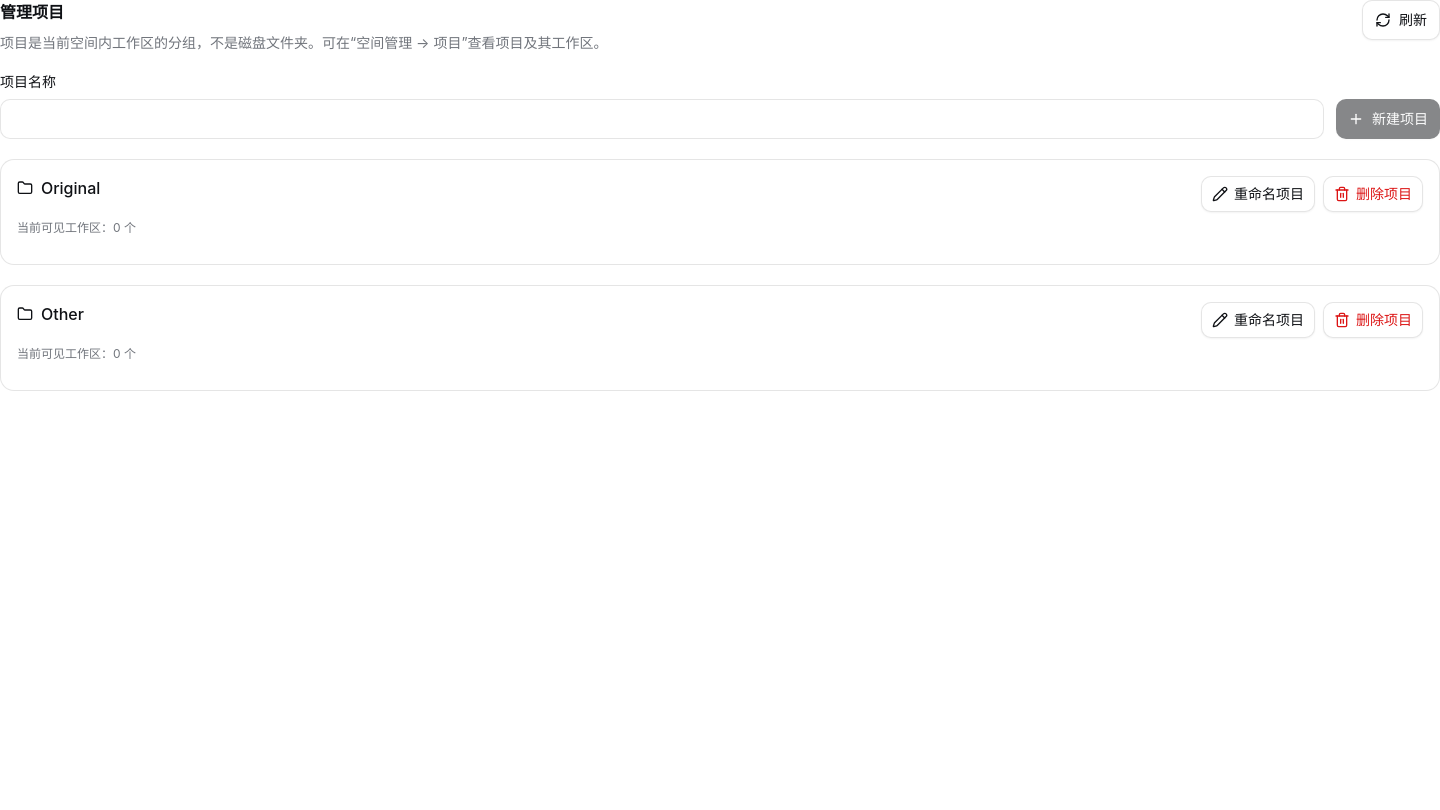
Test case: Platform project settings › keeps the confirmation and project on conflict: the last project in a space cannot be deleted
What coordinates should you click on to do the following:
click the button "删除项目" in the row of "Original"
I would click on:
 (1373, 194)
Its box is [1323, 176, 1423, 212].
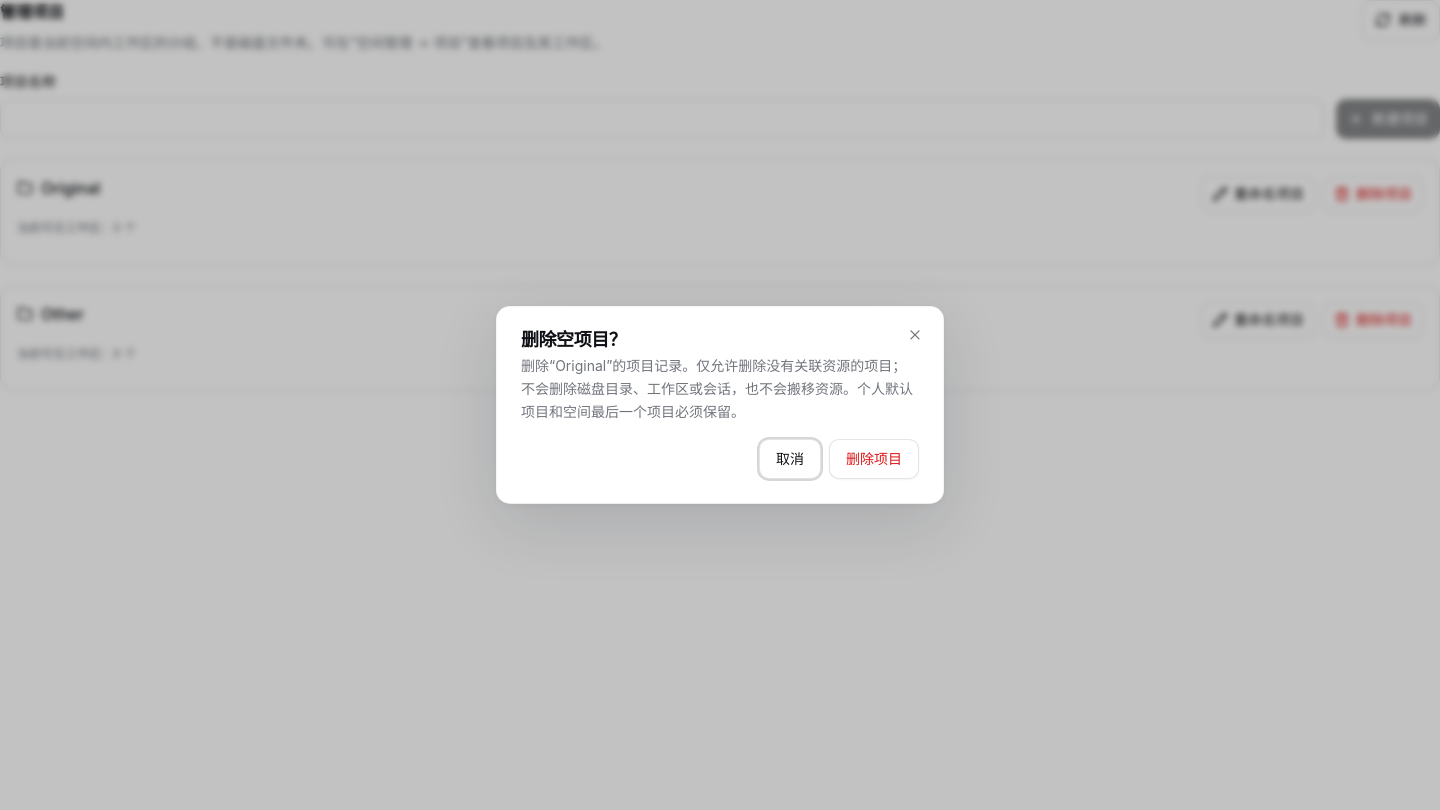
What coordinates should you click on to do the following:
click the button "删除项目"
I would click on:
 (874, 459)
Its box is [829, 439, 919, 479].
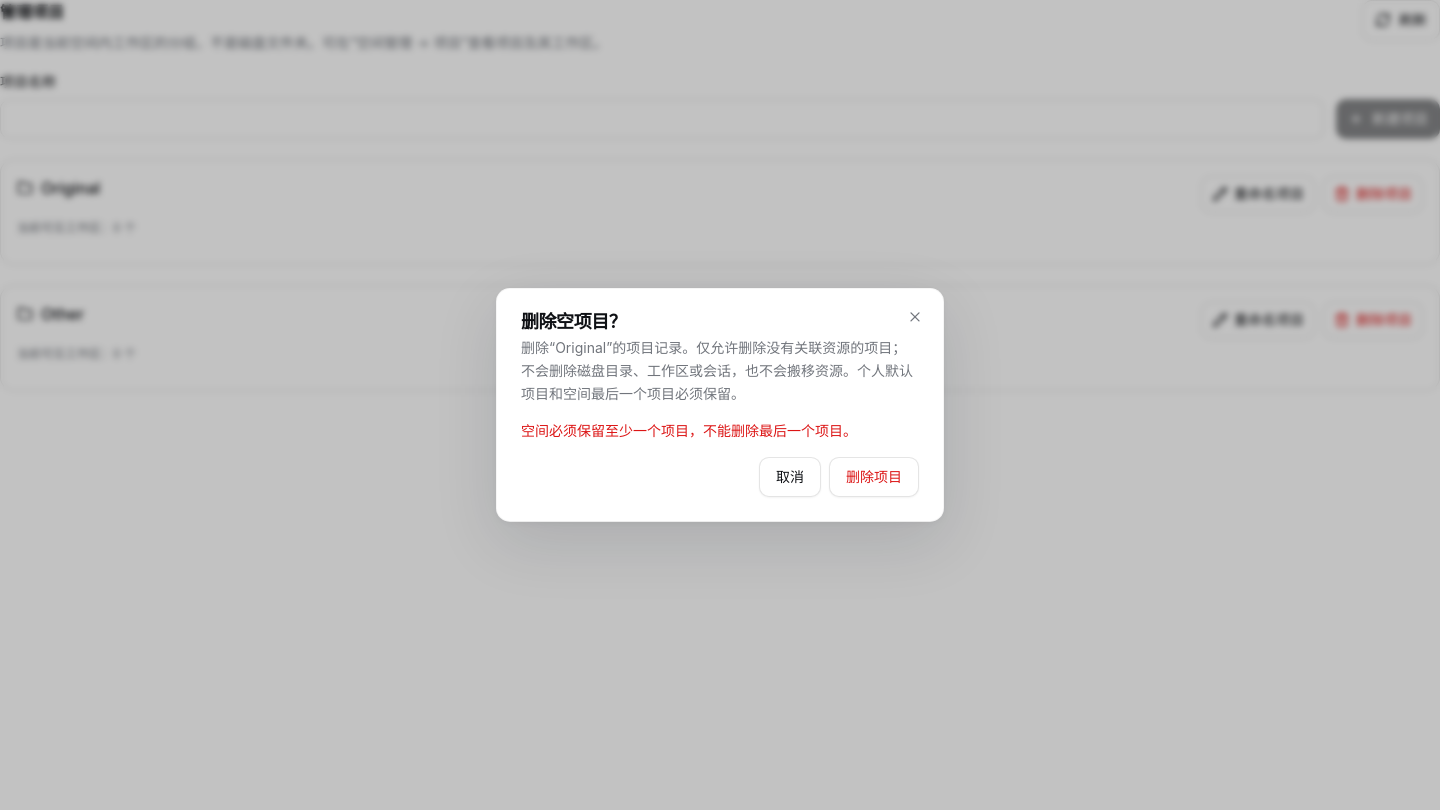
Check: the element showing "Original 重命名项目 删除项目 当前可见工作区：0 个" is shown, box [0, 159, 1439, 265]
Check: the message "空间必须保留至少一个项目，不能删除最后一个项目。" is shown, box [521, 422, 857, 439]
